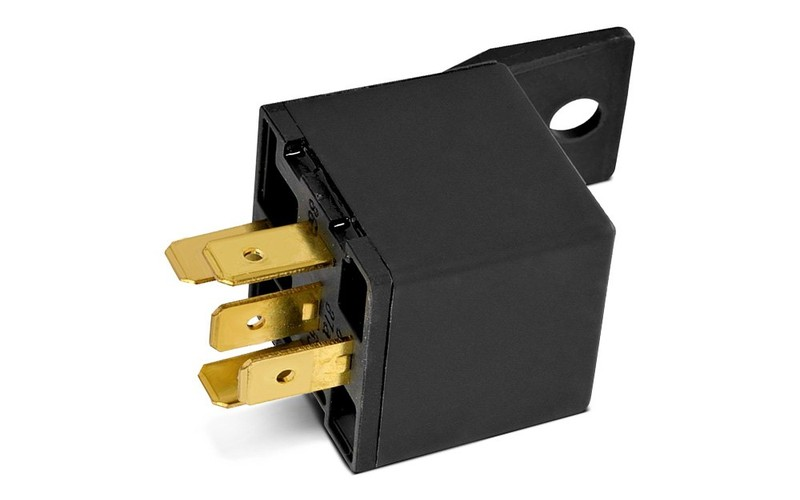Switches: (122, 19, 637, 495)
